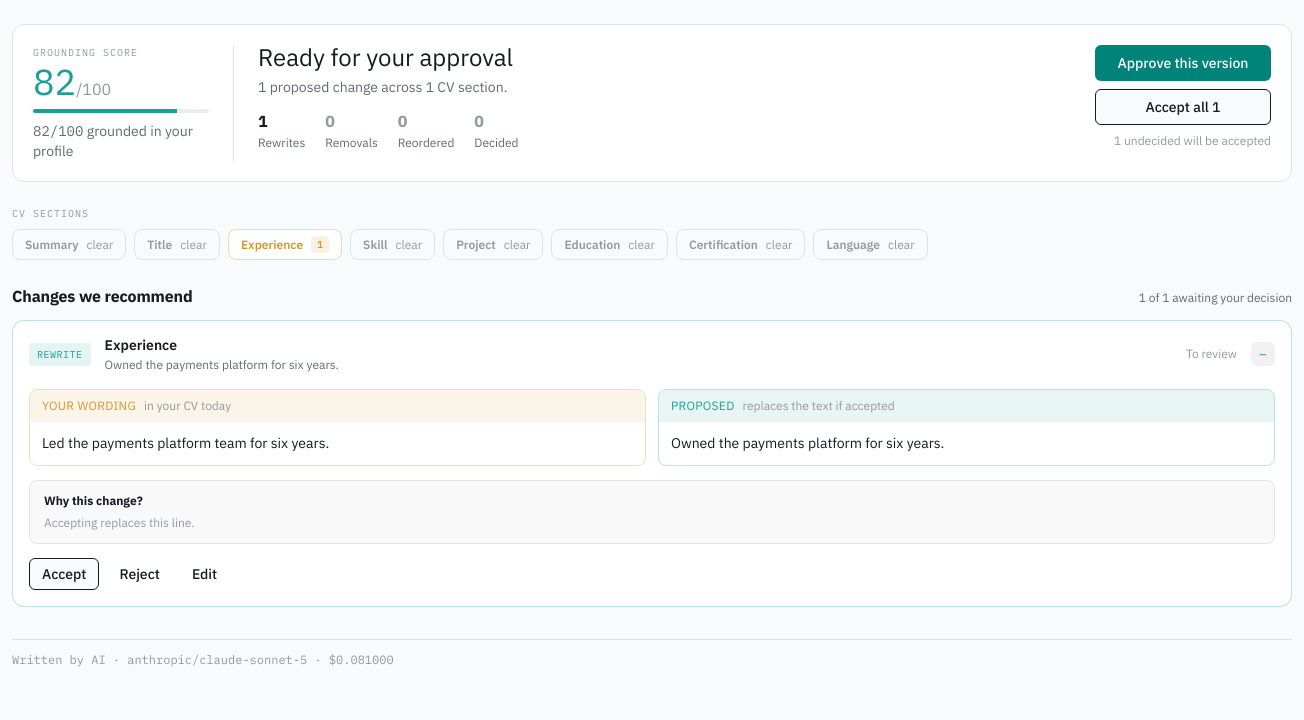
it: the structured review › an accepted proposal stops asking: actions gone, decided state shown
The width and height of the screenshot is (1304, 720).
Click the button "Accept".
click(64, 574)  # box [29,558,99,590]
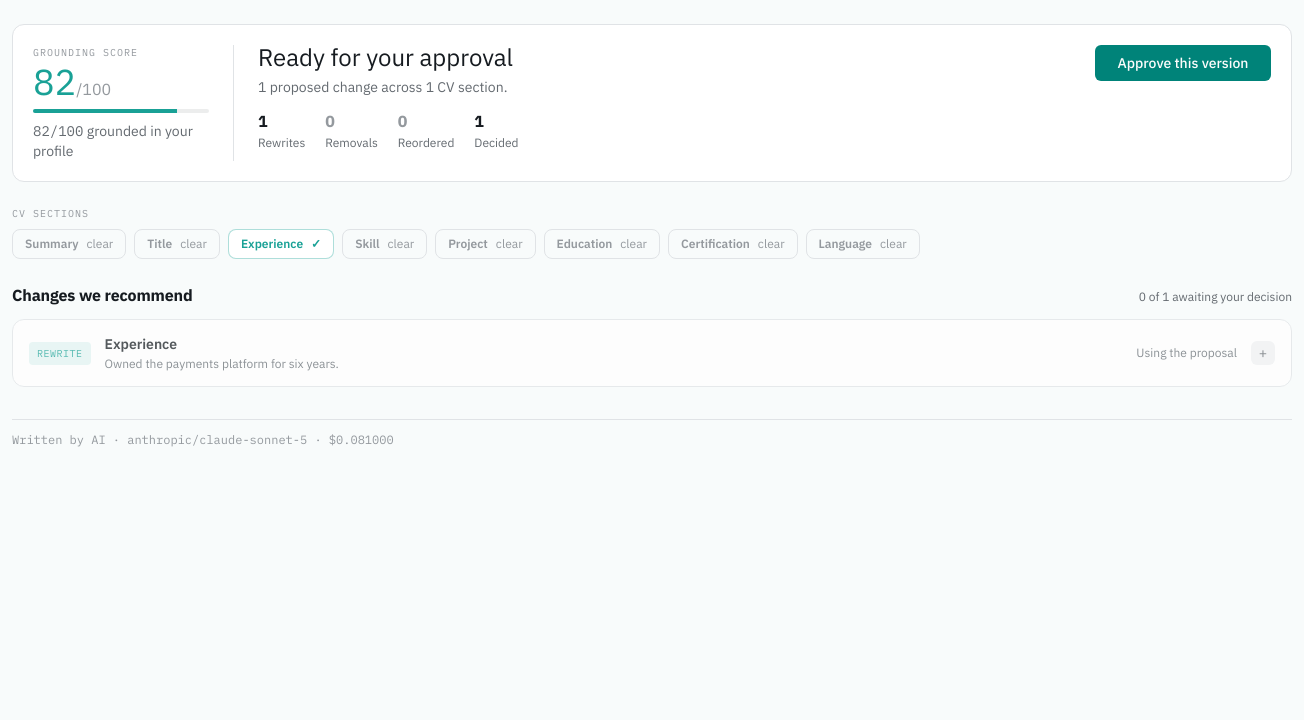
Now the text "Using the proposal" is shown, box [1136,345,1237,361]
Click the button that starts with "REWRITE".
click(60, 353)  # box [13,320,1291,386]
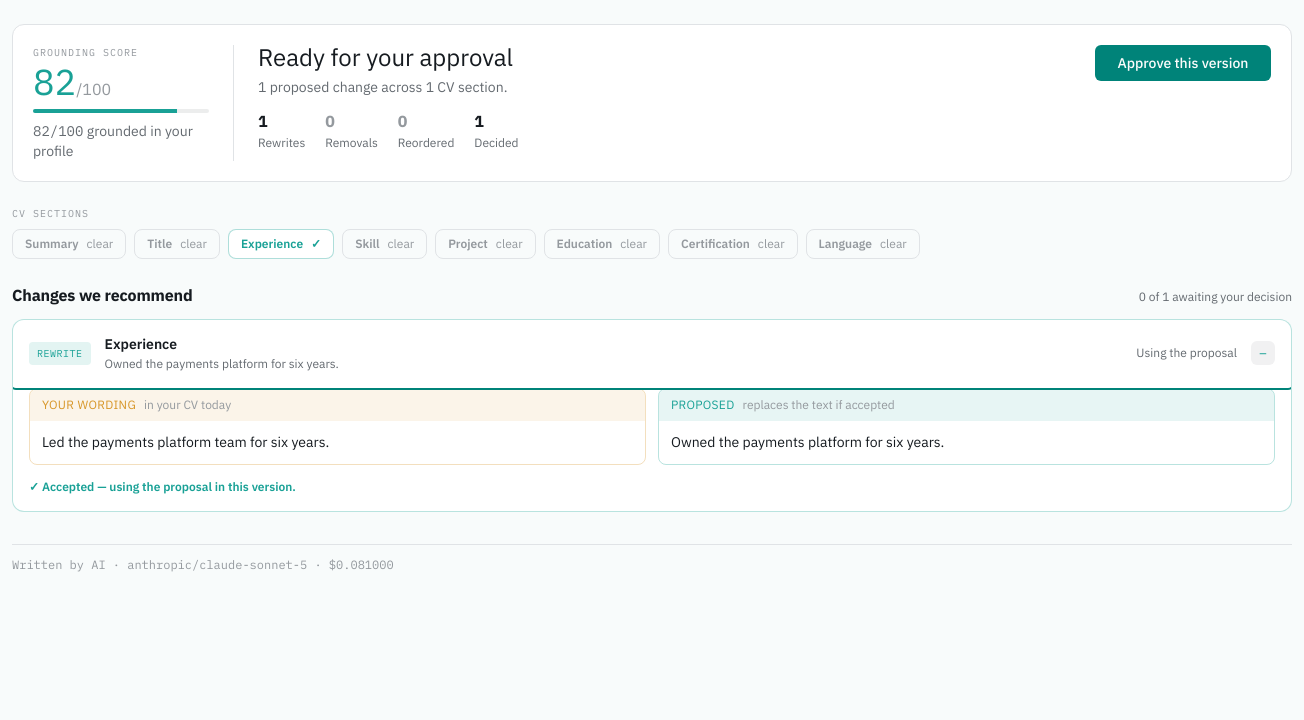
Expected: the button "Reject" is not shown
Now the text "✓ Accepted — using the proposal in this version." is shown, box [29,479,296,494]
